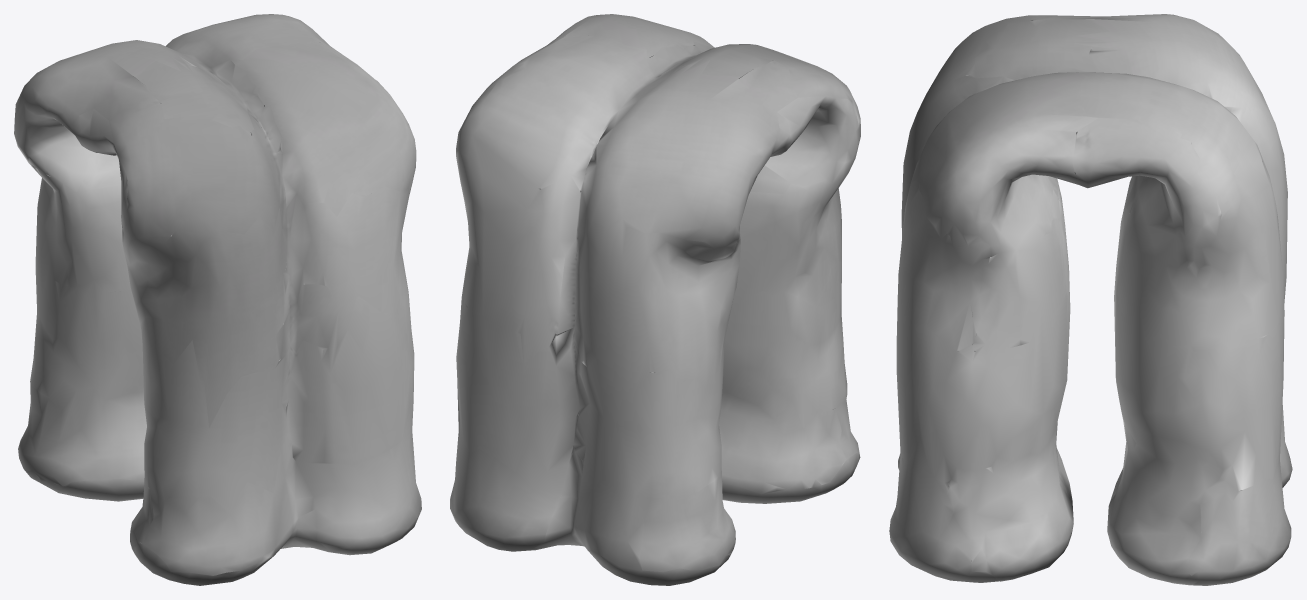
Rendered from 01_1_bud_rrs_stool-opt-v1.glb.
3 views of the same model, side by side, from view 1: azimuth 30°, elevation 25°; view 2: azimuth 150°, elevation 25°; view 3: azimuth 270°, elevation 25° (orthographic). The views are drawn at different scales.
Parts seen in each view (by area): view 1: tripo_material_4af336c0-12da-41f0-b142-3e949e9c4fad.002; view 2: tripo_material_4af336c0-12da-41f0-b142-3e949e9c4fad.002; view 3: tripo_material_4af336c0-12da-41f0-b142-3e949e9c4fad.002.
Part boxes in pixels (x1=…): tripo_material_4af336c0-12da-41f0-b142-3e949e9c4fad.002: x1=14, y1=14, x2=421, y2=585; tripo_material_4af336c0-12da-41f0-b142-3e949e9c4fad.002: x1=450, y1=14, x2=860, y2=585; tripo_material_4af336c0-12da-41f0-b142-3e949e9c4fad.002: x1=889, y1=14, x2=1292, y2=585.
Size of the model in its own units: 0.3031 by 0.4502 by 0.351.
Materials: 1 (1 with a texture image).
